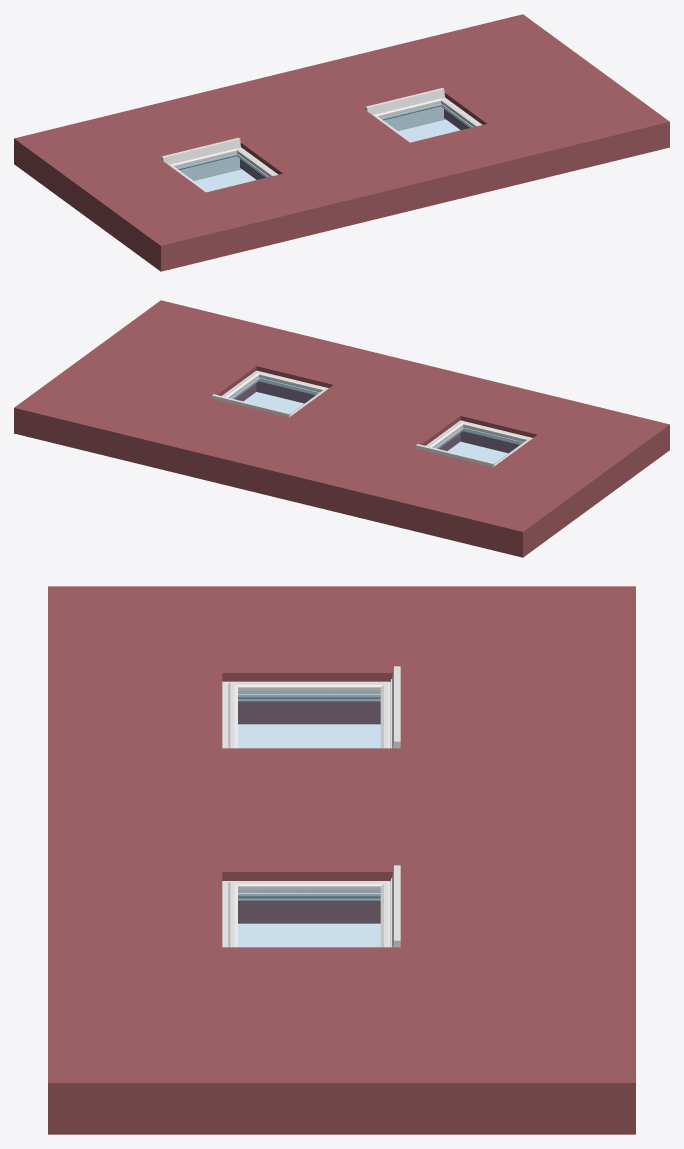
Rendered from OneWallTwoWindows.obj.
3 views of the same model, one above another, from view 1: azimuth 30°, elevation 25°; view 2: azimuth 150°, elevation 25°; view 3: azimuth 270°, elevation 25° (orthographic). The views are drawn at different scales.
Parts seen in each view (by area): view 1: product-f866f311-1fa6-42a7-8112-a4668819cc72-body, product-f866f311-1fa6-42a7-8112-a4668819cd74-body, product-f866f311-1fa6-42a7-8112-a4668819cd93-body; view 2: product-f866f311-1fa6-42a7-8112-a4668819cc72-body, product-f866f311-1fa6-42a7-8112-a4668819cd93-body, product-f866f311-1fa6-42a7-8112-a4668819cd74-body; view 3: product-f866f311-1fa6-42a7-8112-a4668819cc72-body, product-f866f311-1fa6-42a7-8112-a4668819cd93-body, product-f866f311-1fa6-42a7-8112-a4668819cd74-body.
Part boxes in pixels (x1=…): product-f866f311-1fa6-42a7-8112-a4668819cc72-body: x1=14, y1=14, x2=669, y2=271; product-f866f311-1fa6-42a7-8112-a4668819cd74-body: x1=365, y1=88, x2=482, y2=142; product-f866f311-1fa6-42a7-8112-a4668819cd93-body: x1=161, y1=137, x2=278, y2=192; product-f866f311-1fa6-42a7-8112-a4668819cc72-body: x1=14, y1=300, x2=669, y2=557; product-f866f311-1fa6-42a7-8112-a4668819cd93-body: x1=416, y1=420, x2=532, y2=467; product-f866f311-1fa6-42a7-8112-a4668819cd74-body: x1=212, y1=370, x2=328, y2=417; product-f866f311-1fa6-42a7-8112-a4668819cc72-body: x1=48, y1=586, x2=635, y2=1134; product-f866f311-1fa6-42a7-8112-a4668819cd93-body: x1=222, y1=666, x2=400, y2=748; product-f866f311-1fa6-42a7-8112-a4668819cd74-body: x1=222, y1=865, x2=400, y2=947.
Size of the model in its own units: 6 by 0.3525 by 3.
